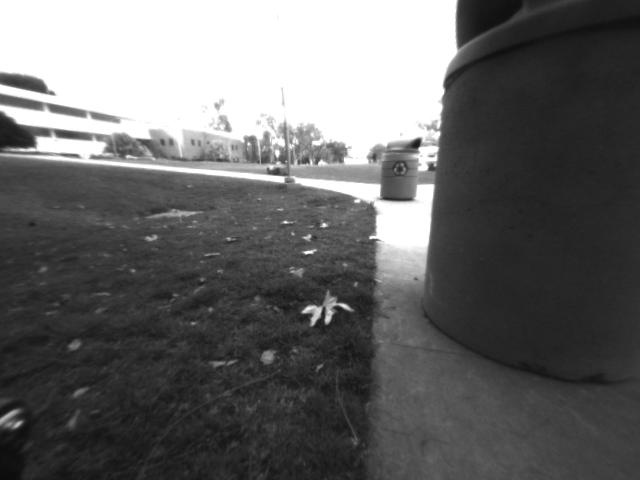trashcan: (400, 1, 640, 396)
